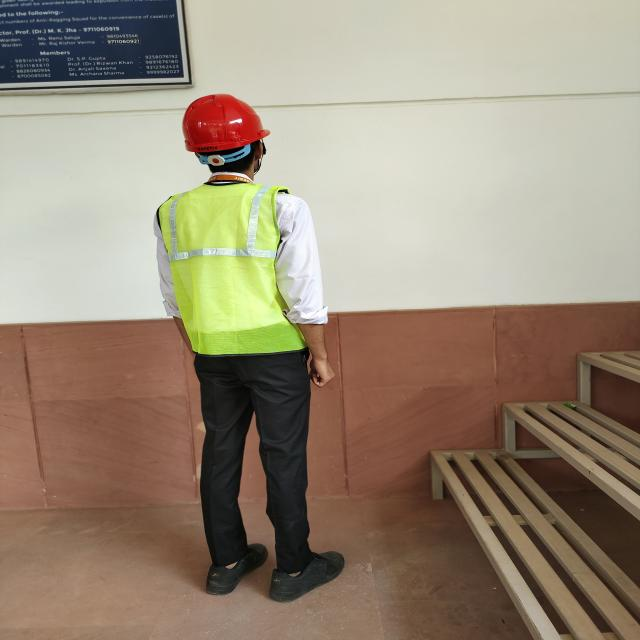safe: (154, 93, 333, 602)
